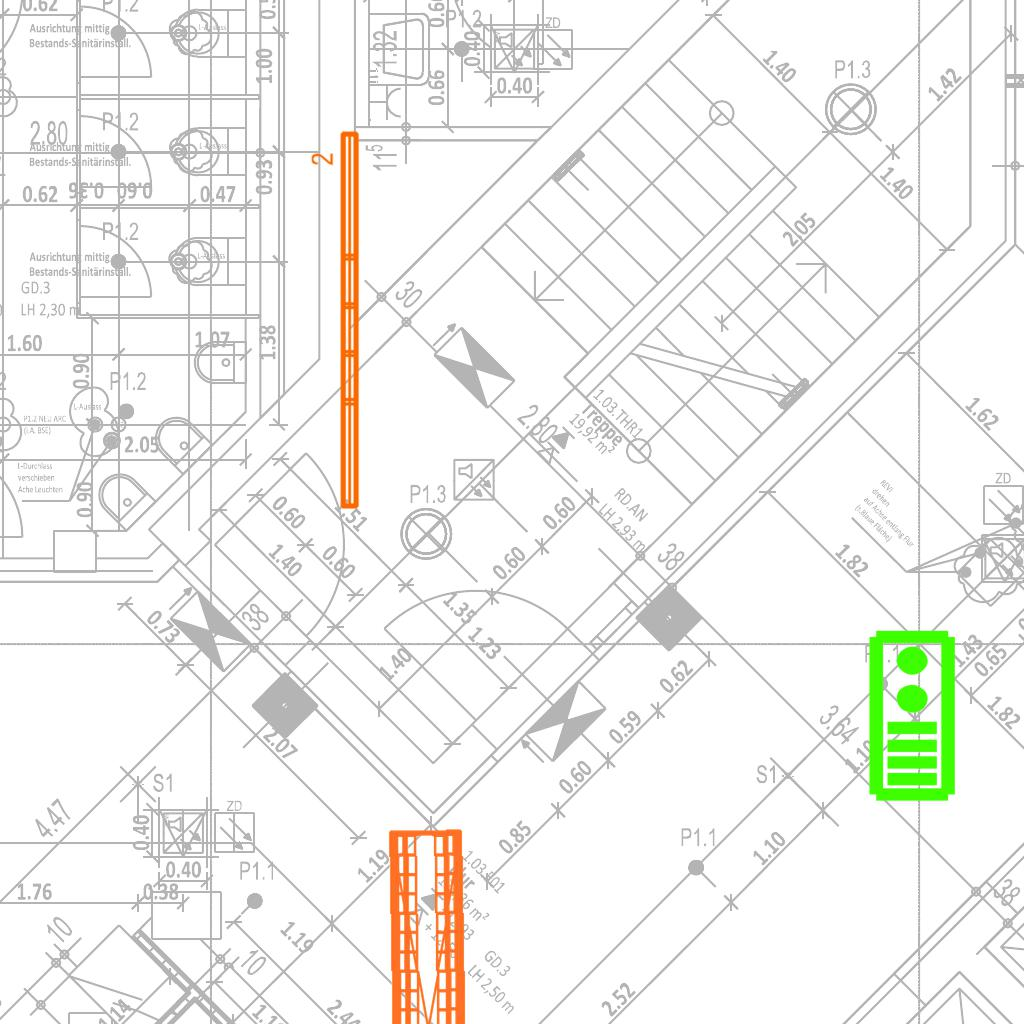Ambulanz_Pendelleuchte_LED: (309, 127, 365, 514)
Buero_Pendelleuchten_LED: (378, 820, 517, 1024)
Gegensprechanlage_mit_Video: (863, 627, 958, 803)
